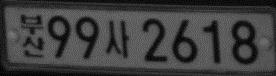1: (200, 19, 227, 64)
2: (141, 17, 167, 62)
6: (171, 19, 197, 63)
8: (230, 19, 259, 65)
9: (46, 14, 72, 58), (74, 16, 99, 59)
부산_V: (20, 12, 45, 59)
사: (105, 20, 130, 59)
